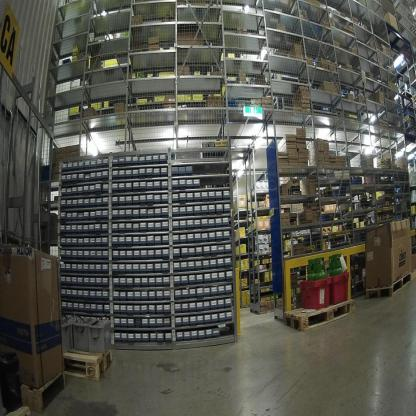pallet: (285, 296, 357, 333), (59, 347, 114, 384), (22, 368, 64, 412), (363, 265, 411, 296), (1, 395, 32, 414), (411, 269, 415, 280)
small_load_carrier: (298, 272, 331, 311), (332, 267, 350, 307)
